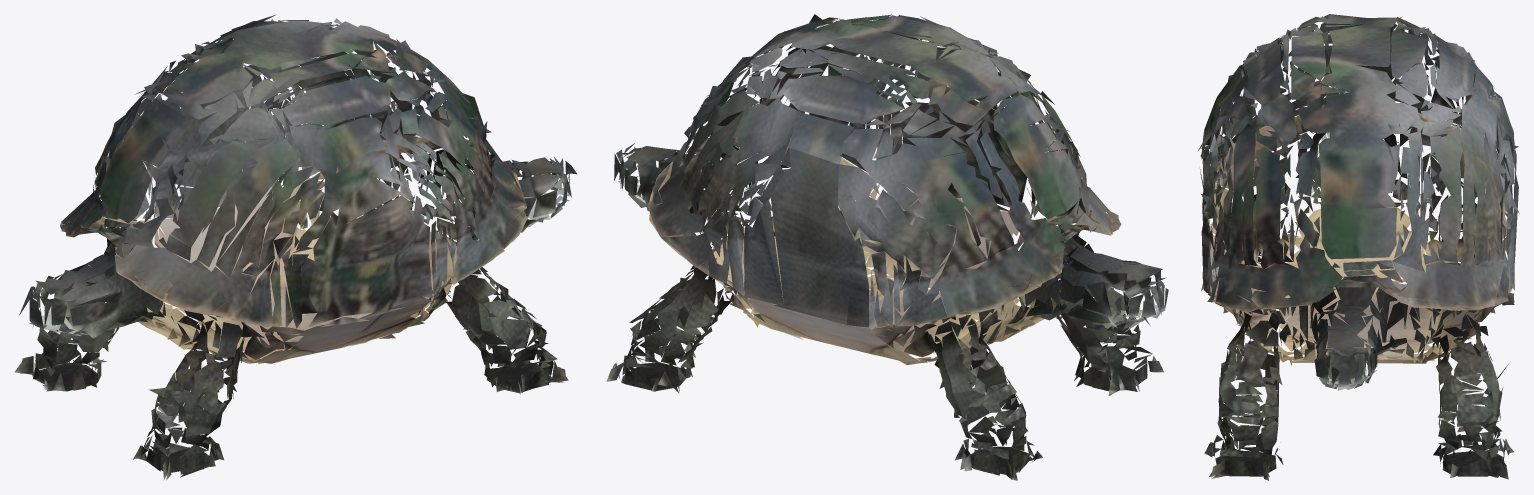
The model's file is Turtle.glb.
The picture shows the model from 3 angles, left to right: view 1: azimuth 30°, elevation 25°; view 2: azimuth 150°, elevation 25°; view 3: azimuth 270°, elevation 25°; orthographic projection.
Visible parts, largest first — view 1: Turtle; view 2: Turtle; view 3: Turtle.
Boxes of the visible parts, x1=… form: Turtle: x1=14, y1=14, x2=577, y2=480; Turtle: x1=606, y1=14, x2=1168, y2=480; Turtle: x1=1197, y1=14, x2=1519, y2=480.
Size of the model in its own units: 1.93 by 1.14 by 0.9795.
1 material, 1 textured.
